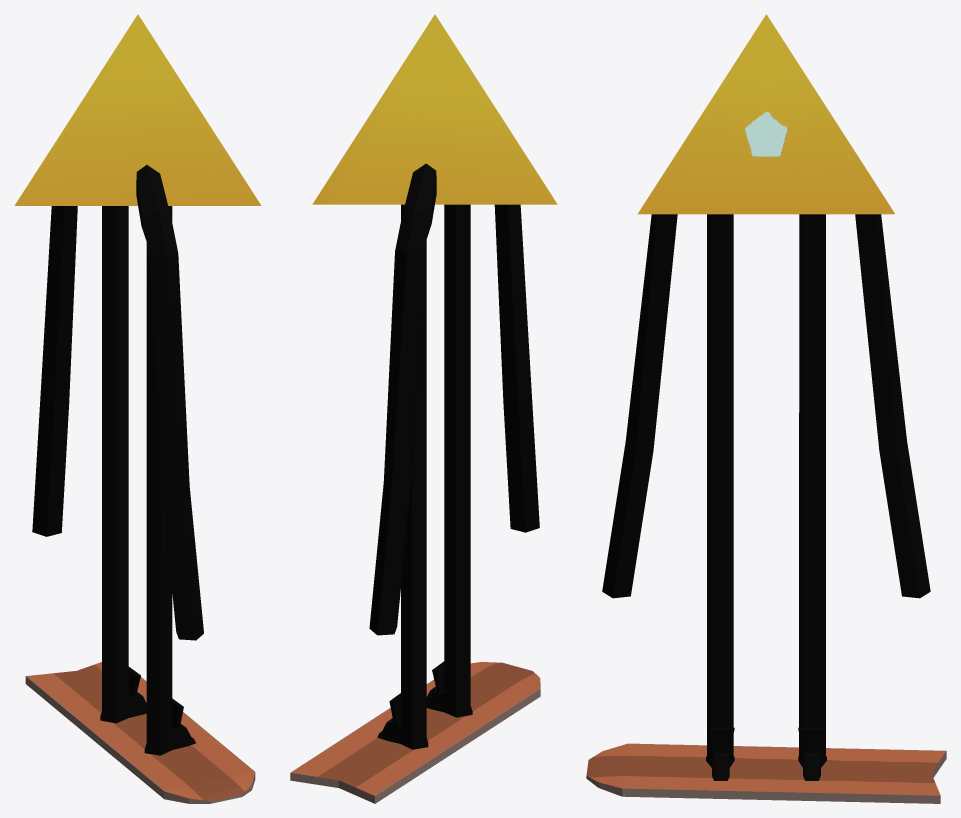
Rendered from shredgod.fbx.
The picture shows the model from 3 angles, left to right: view 1: azimuth 30°, elevation 25°; view 2: azimuth 150°, elevation 25°; view 3: azimuth 270°, elevation 25°; orthographic projection. The views are drawn at different scales.
Visible parts, largest first — view 1: Cone, Cube; view 2: Cone, Cube; view 3: Cone, Cube.
Part boxes in pixels (x1=…): Cone: x1=14, y1=14, x2=261, y2=755; Cube: x1=25, y1=662, x2=255, y2=803; Cone: x1=312, y1=14, x2=557, y2=749; Cube: x1=290, y1=662, x2=540, y2=803; Cone: x1=602, y1=14, x2=930, y2=780; Cube: x1=586, y1=743, x2=946, y2=803.
Size of the model in its own units: 0.9461 by 3.53 by 1.52.
Materials: 2 (2 with a texture image).
